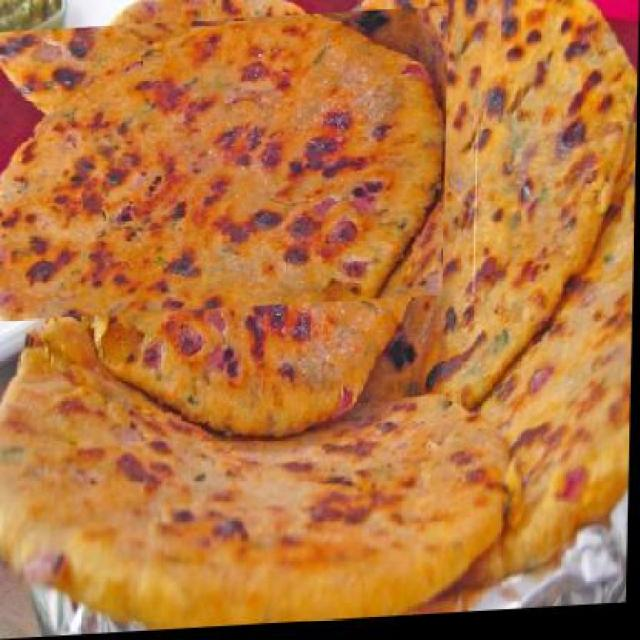chapati: (2, 0, 435, 440), (0, 297, 514, 638), (326, 0, 639, 426), (470, 128, 636, 598)
